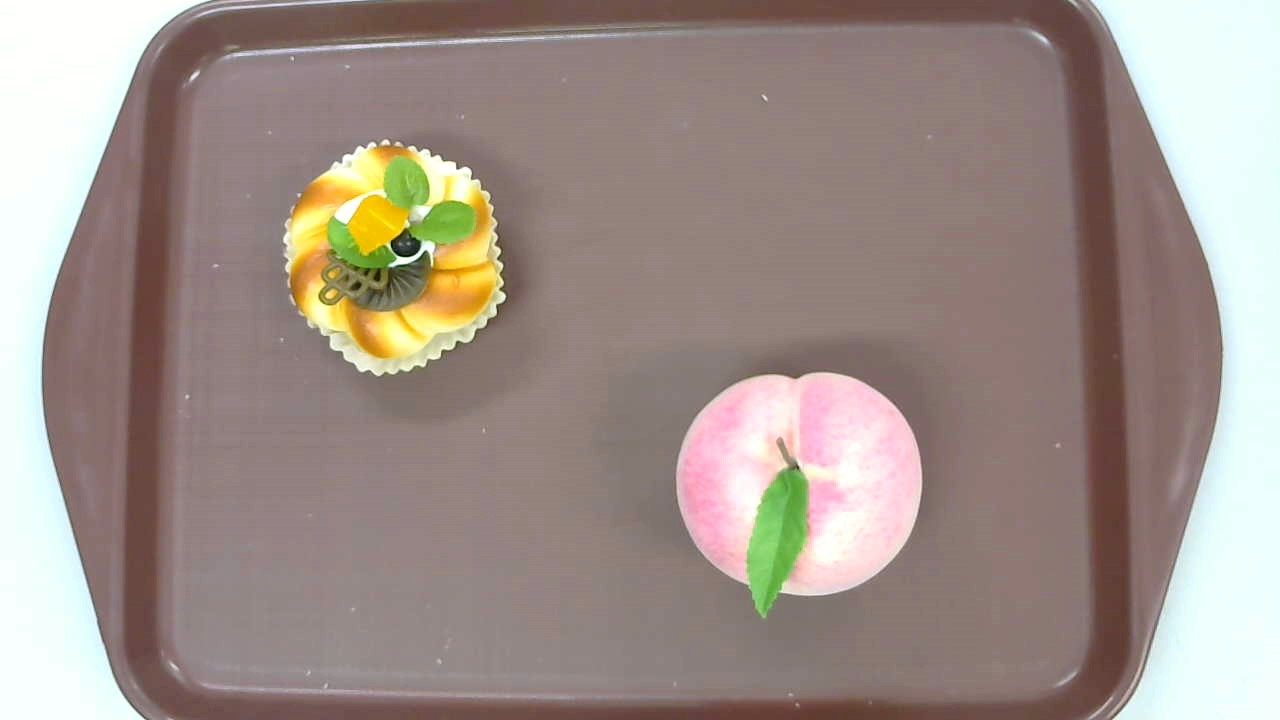fruit tart: (281, 139, 506, 377)
peach: (675, 370, 921, 618)
